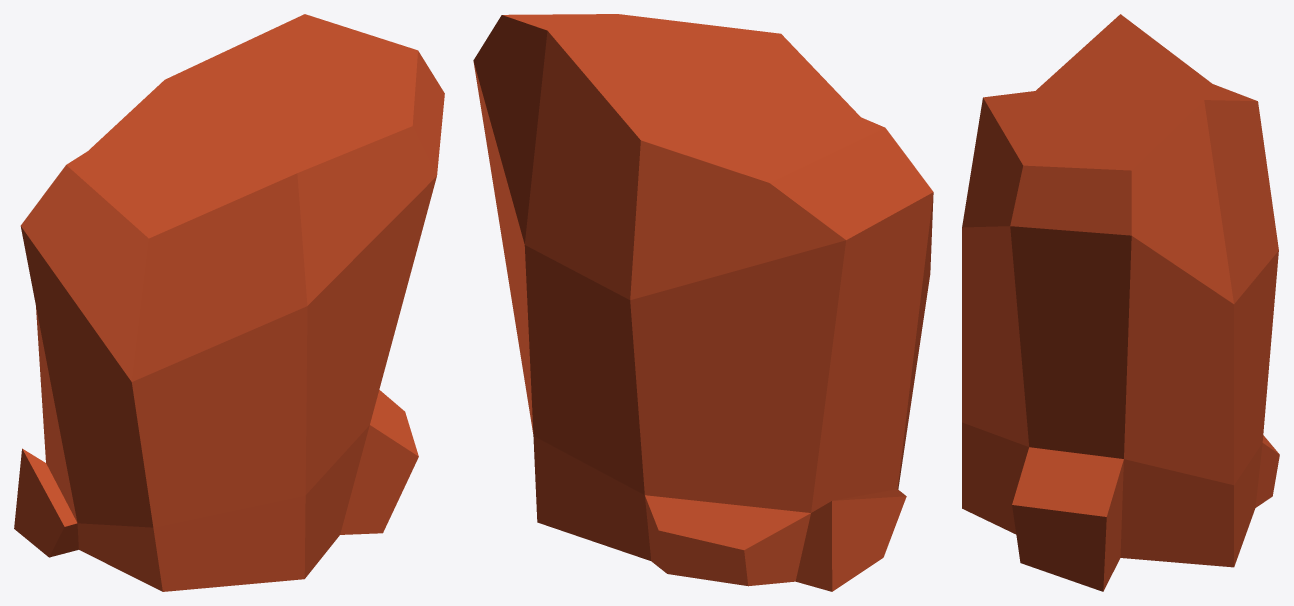
File: Stone012.gltf
3 views of the same model, side by side, from view 1: azimuth 30°, elevation 25°; view 2: azimuth 150°, elevation 25°; view 3: azimuth 270°, elevation 25° (orthographic). The views are drawn at different scales.
Parts seen in each view (by area): view 1: Stone012; view 2: Stone012; view 3: Stone012.
Part boxes in pixels (left/top/right/bottom): Stone012: left=14, top=14, right=444, bottom=591; Stone012: left=473, top=14, right=933, bottom=591; Stone012: left=962, top=14, right=1279, bottom=591.
Bounding box in the file's own units: 1.96 × 1.98 × 1.21.
